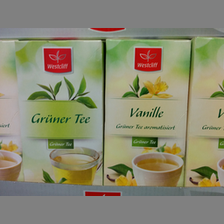tea: (15, 38, 104, 186), (104, 38, 191, 187)
